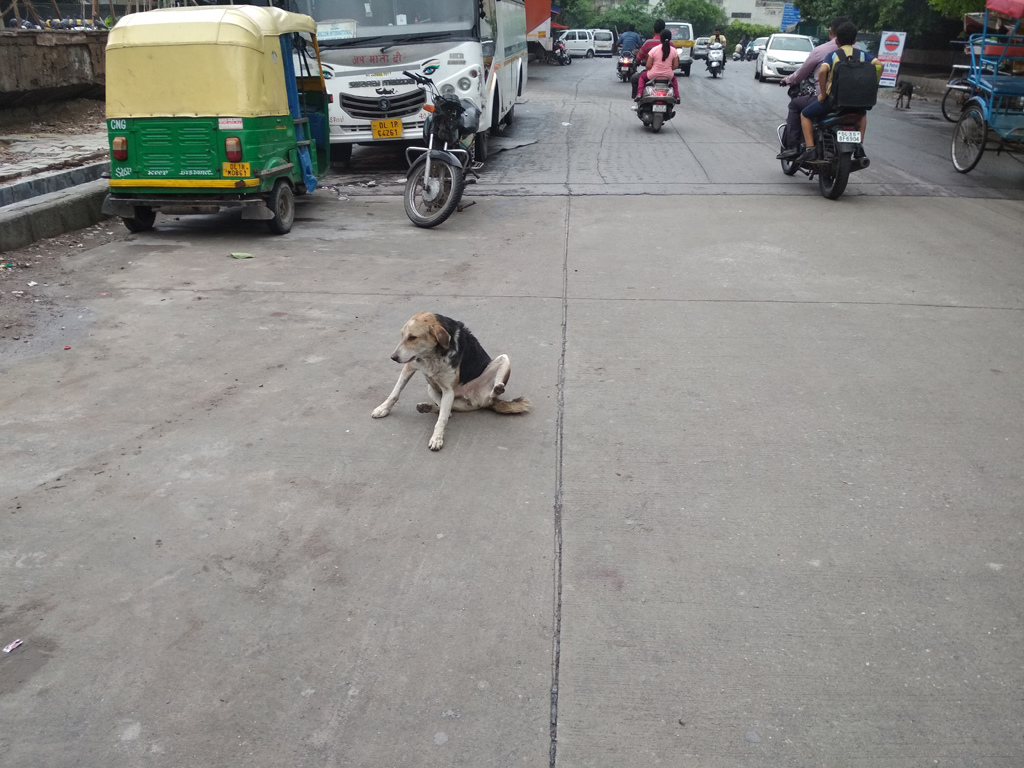dog: (372, 312, 535, 452)
